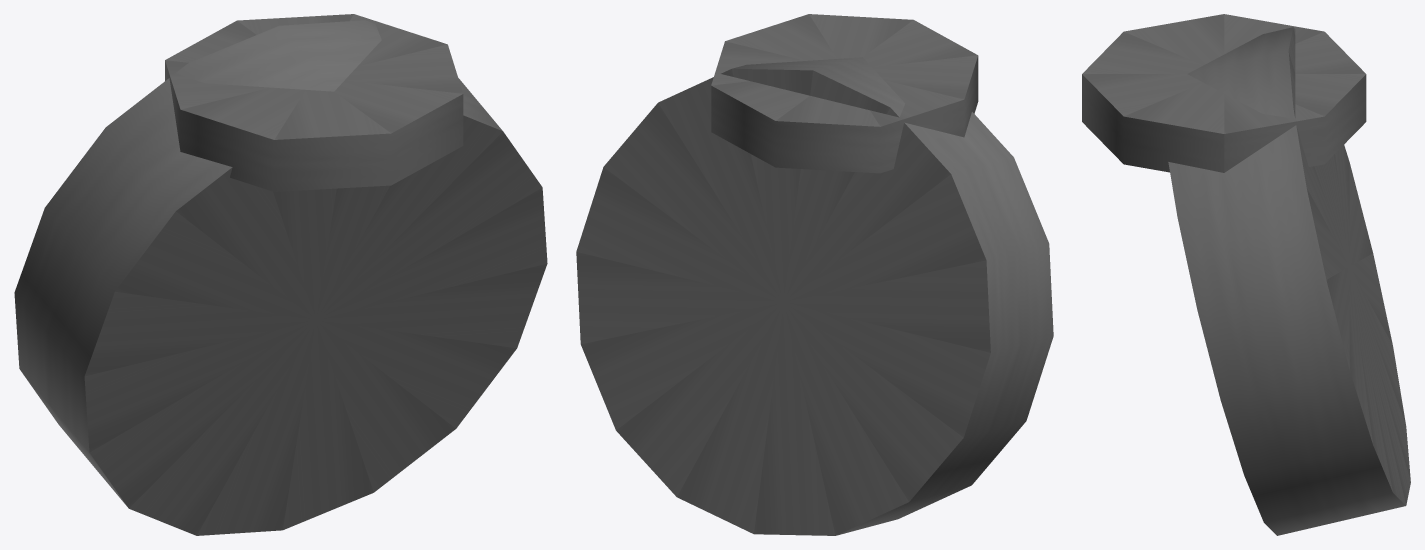
Rendered from mastarmcurve_10x2_c4_up.obj.
3 views of the same model, side by side, from view 1: azimuth 30°, elevation 25°; view 2: azimuth 150°, elevation 25°; view 3: azimuth 270°, elevation 25° (orthographic). The views are drawn at different scales.
Visible parts, largest first — view 1: mastarm_10x2_c4_up; view 2: mastarm_10x2_c4_up; view 3: mastarm_10x2_c4_up.
Part boxes in pixels (bbox=[...]): mastarm_10x2_c4_up: bbox=[14, 14, 547, 535]; mastarm_10x2_c4_up: bbox=[576, 14, 1053, 535]; mastarm_10x2_c4_up: bbox=[1082, 14, 1410, 535].
Size of the model in its own units: 0.6927 by 0.7175 by 0.4628.
